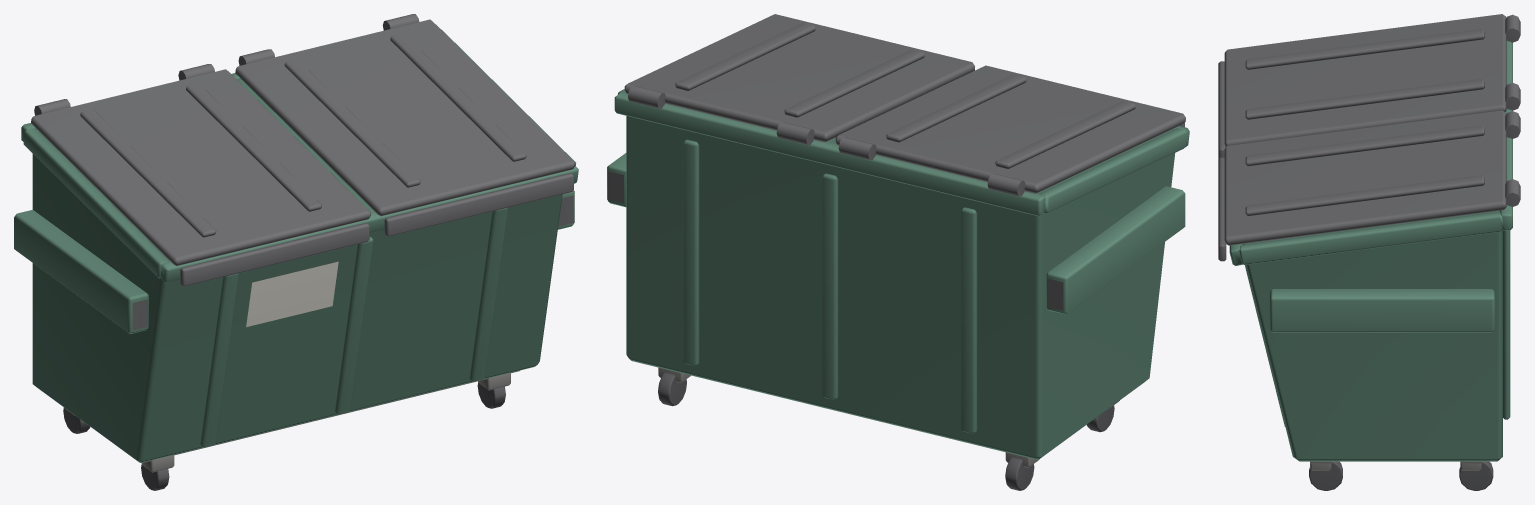
The model's file is dumpster.glb.
3 renders of one model, left to right at view 1: azimuth 30°, elevation 25°; view 2: azimuth 150°, elevation 25°; view 3: azimuth 270°, elevation 25°, orthographic. The views are drawn at different scales.
Visible parts, largest first — view 1: street_dumpster; view 2: street_dumpster; view 3: street_dumpster.
Part boxes in pixels (box(x1,y1,x2,y2)): street_dumpster: box(14, 14, 578, 490); street_dumpster: box(607, 14, 1189, 490); street_dumpster: box(1218, 14, 1520, 490).
Bounding box in the file's own units: 1.86 × 1.26 × 1.13.
